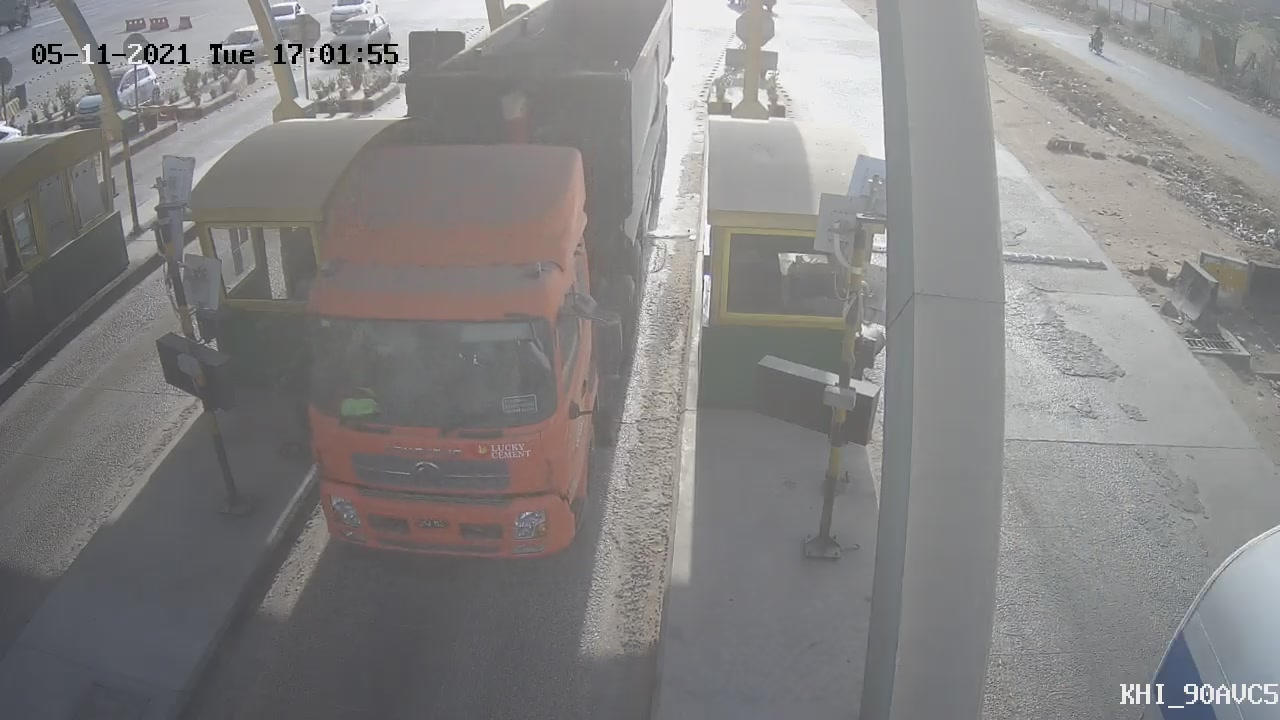F6: (270, 3, 703, 594)
